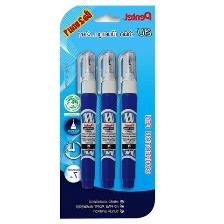book: (56, 2, 158, 220)
correction_fluid: (95, 48, 119, 191), (115, 48, 139, 190), (76, 48, 98, 191)
